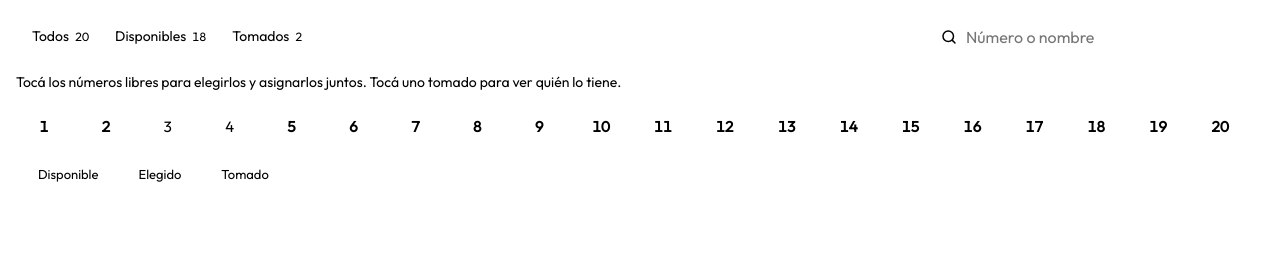
Test: NumbersView › filtra por disponibles, tomados y busca por nombre sin tildes
The image size is (1265, 264).
Click the radio button labelled "Tomados 2" at (267, 36), box [220, 19, 314, 54]
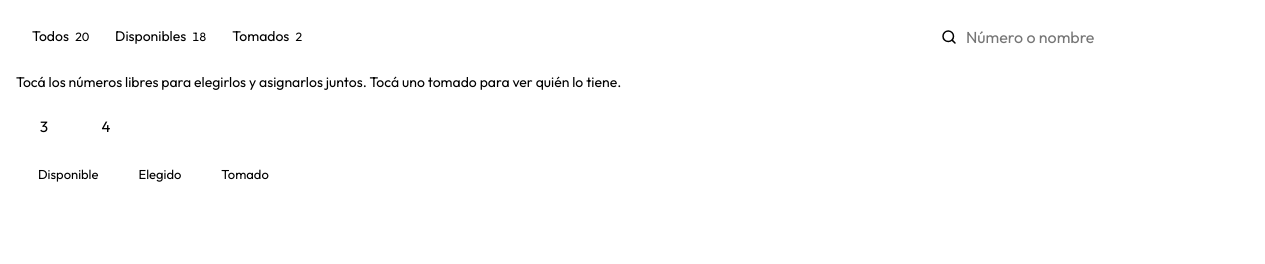
Now the number of buttons named "Número" is 2, box [16, 105, 72, 149]; [78, 105, 134, 149]
Type "perez" into the search field with placeholder "Número o nombre" at (1088, 36), box [928, 16, 1248, 56]
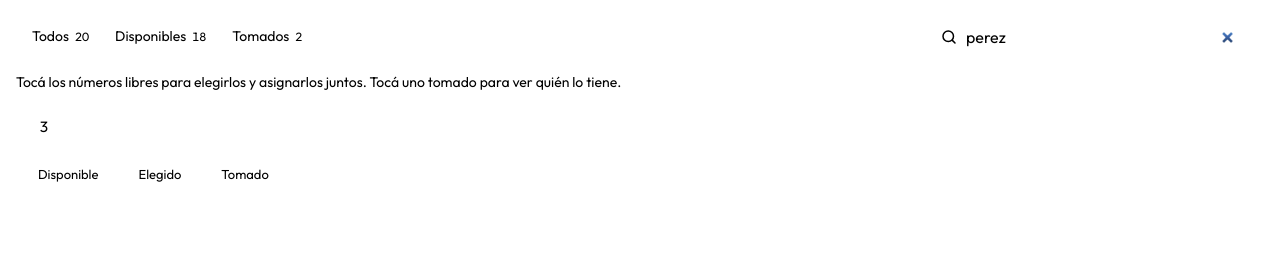
Expected: the number of buttons named "Número" is 1, [16, 105, 72, 149]
Replace the text in the search field with placeholder "Número o nombre" with "zzz" at (1088, 36), box [928, 16, 1248, 56]
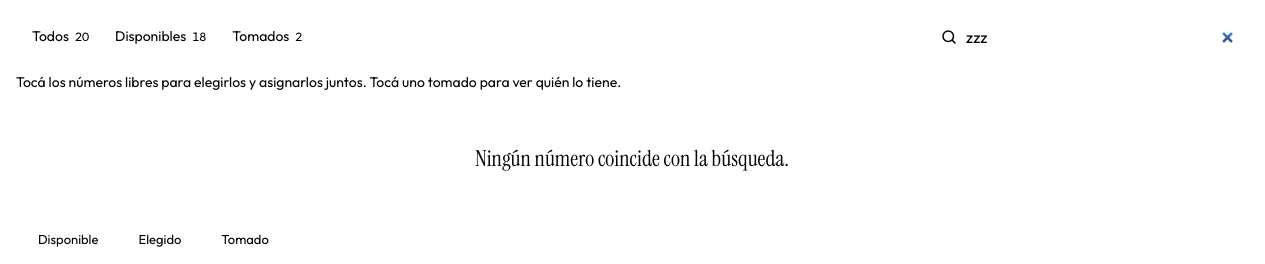
Now the text "Ningún número coincide con la búsqueda." is shown, box [475, 144, 789, 173]
